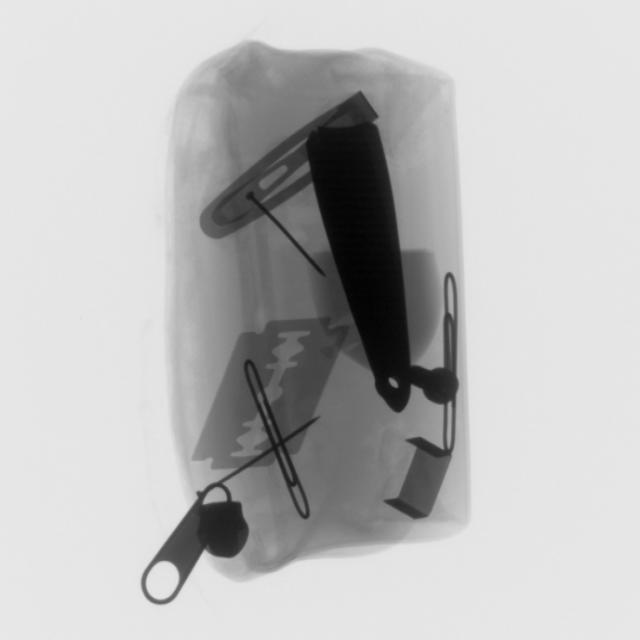BLADE: (237, 118, 326, 220)
